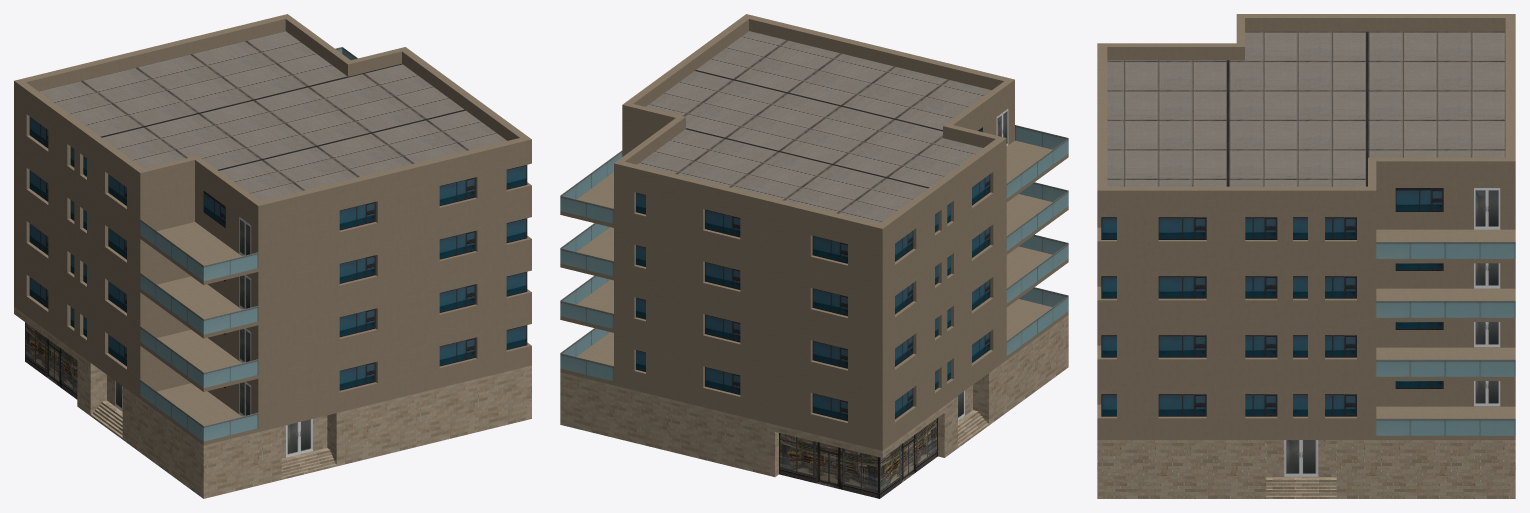
The model's file is SM_DemoBuilding_3_B.fbx.
The picture shows the model from 3 angles, left to right: view 1: azimuth 30°, elevation 25°; view 2: azimuth 150°, elevation 25°; view 3: azimuth 270°, elevation 25°; orthographic projection. The views are drawn at different scales.
Visible parts, largest first — view 1: SM_DemoBuilding_3_B_LOD0; view 2: SM_DemoBuilding_3_B_LOD0; view 3: SM_DemoBuilding_3_B_LOD0.
Part boxes in pixels (x1=…): SM_DemoBuilding_3_B_LOD0: x1=14, y1=14, x2=531, y2=498; SM_DemoBuilding_3_B_LOD0: x1=560, y1=14, x2=1068, y2=498; SM_DemoBuilding_3_B_LOD0: x1=1097, y1=14, x2=1515, y2=498.
Size of what is drawn, in the model's own units: 28.8 by 23.43 by 28.8.
